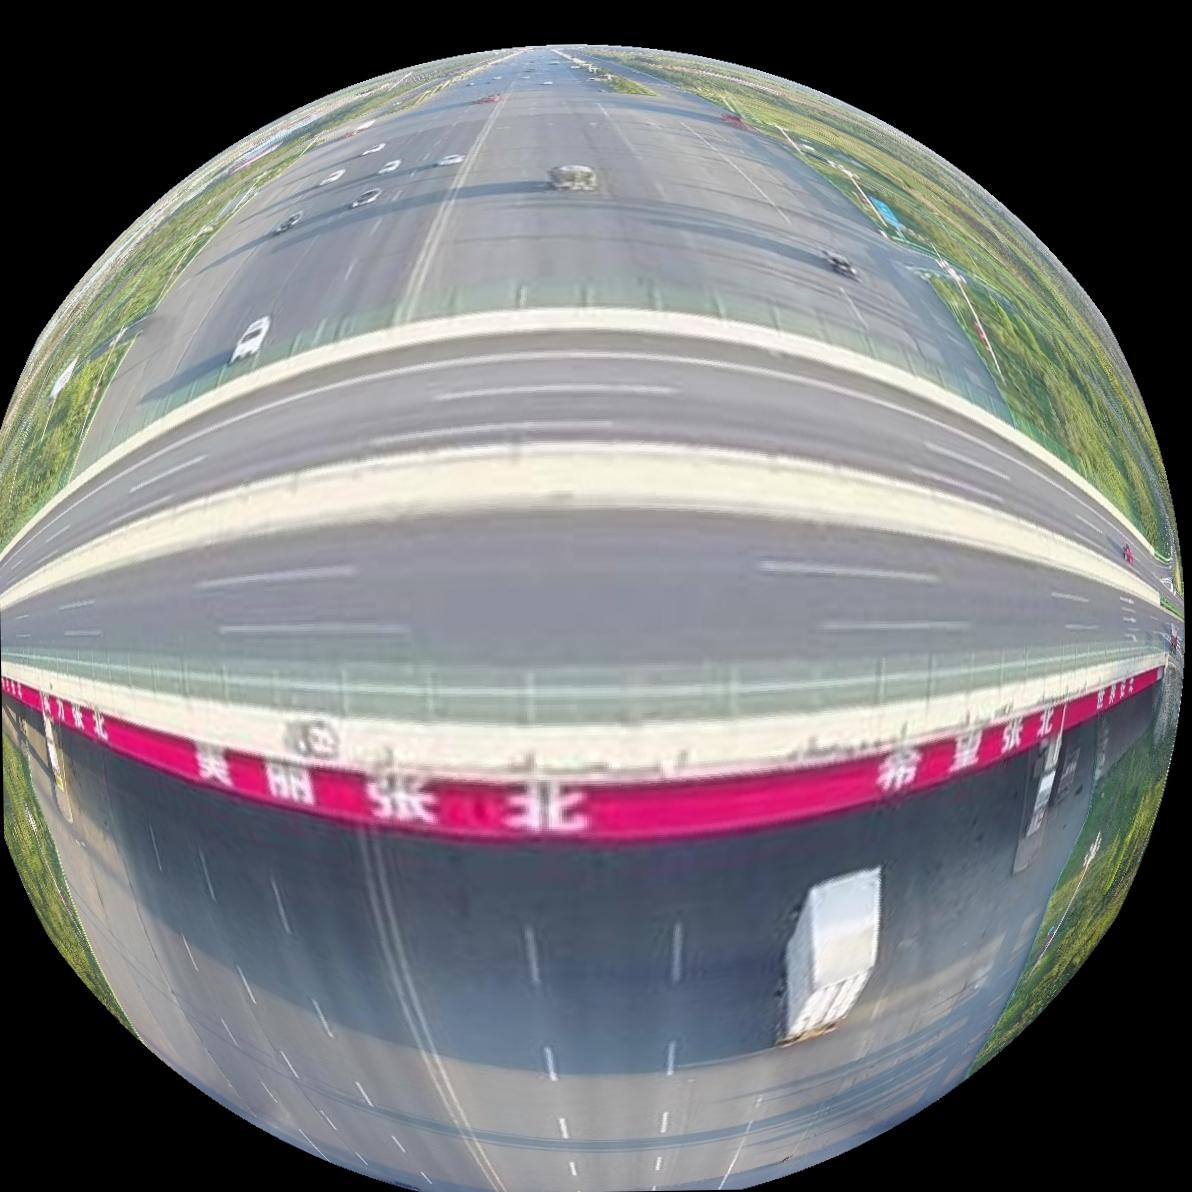cars: (780, 868, 883, 1045), (229, 315, 271, 361), (820, 247, 860, 279), (549, 164, 598, 190), (269, 211, 303, 235), (347, 187, 381, 207), (436, 153, 465, 166)
